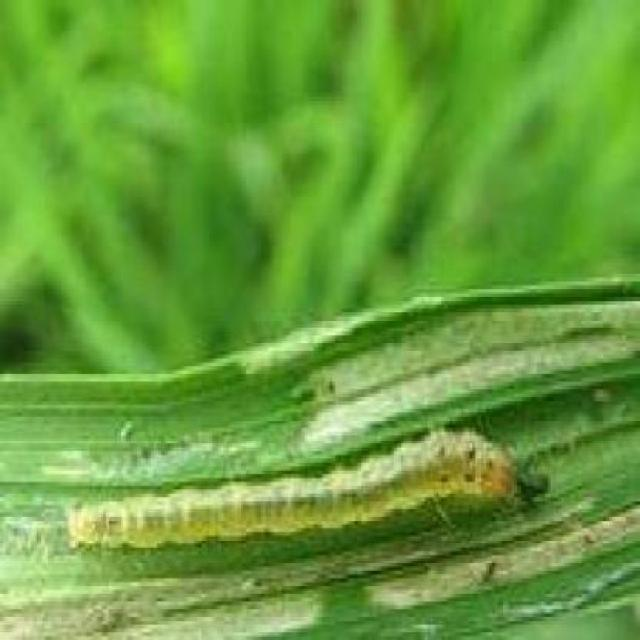leaf-folder: (52, 410, 565, 564)
